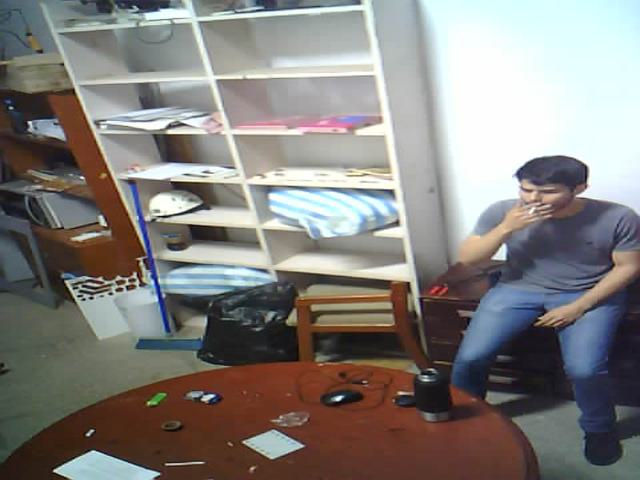person: (425, 112, 640, 480)
